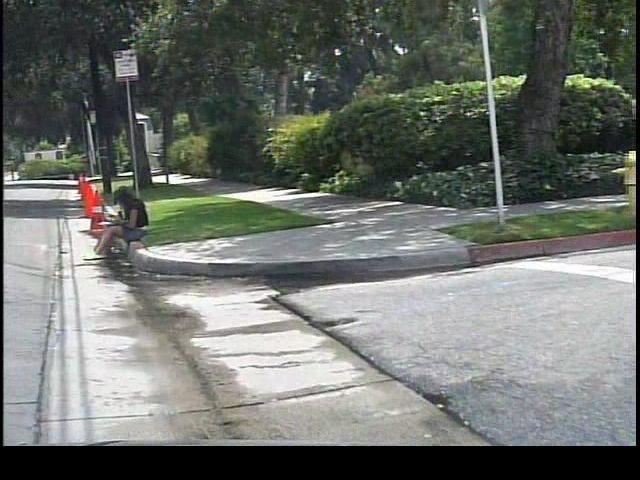person: (76, 184, 153, 263)
